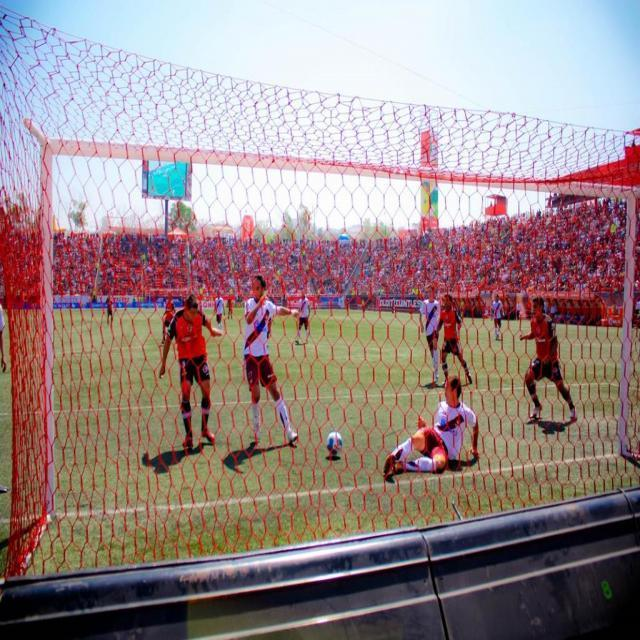football: (316, 432, 360, 458)
